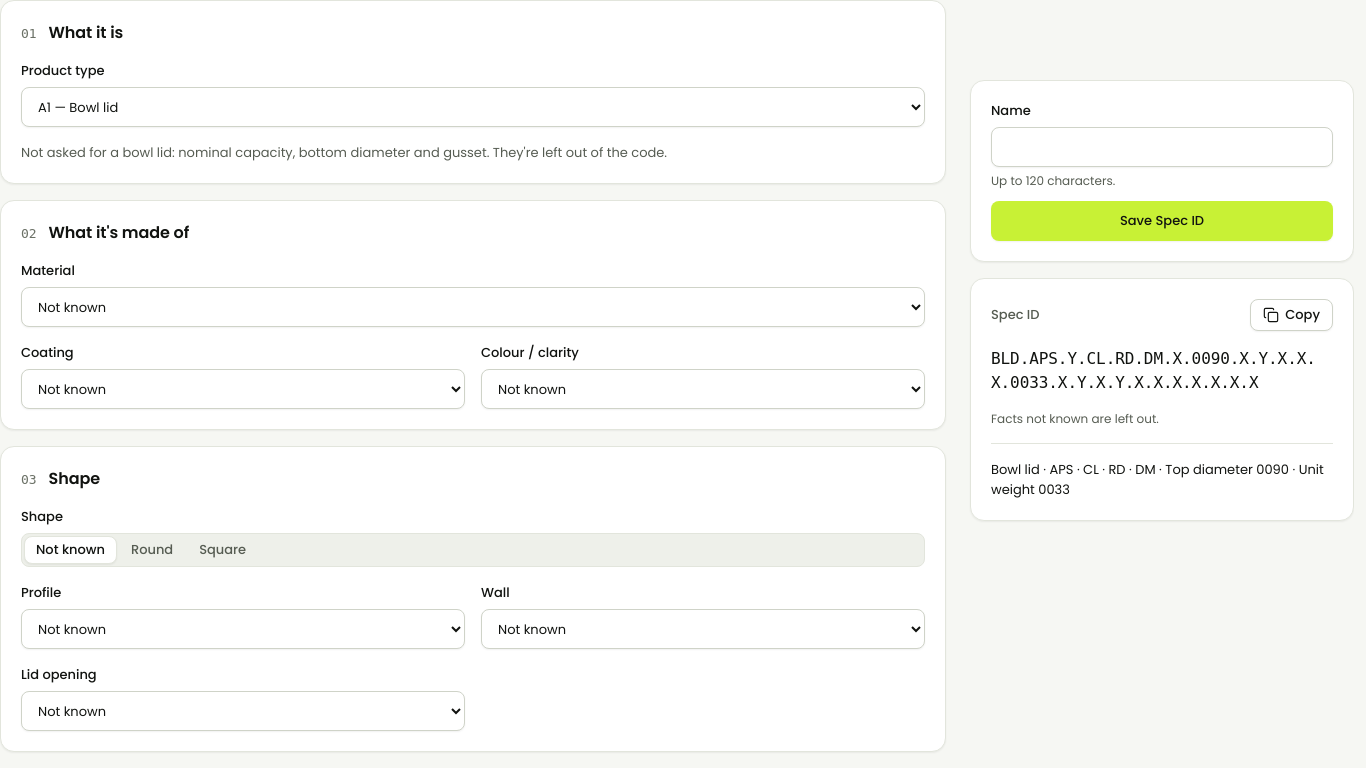
NewSpecIdForm › puts a refused name beside the Name field
What coordinates should you click on to do the following:
click the button "Save Spec ID"
I would click on:
 (1162, 221)
Its box is x1=991 y1=201 x2=1333 y2=241.
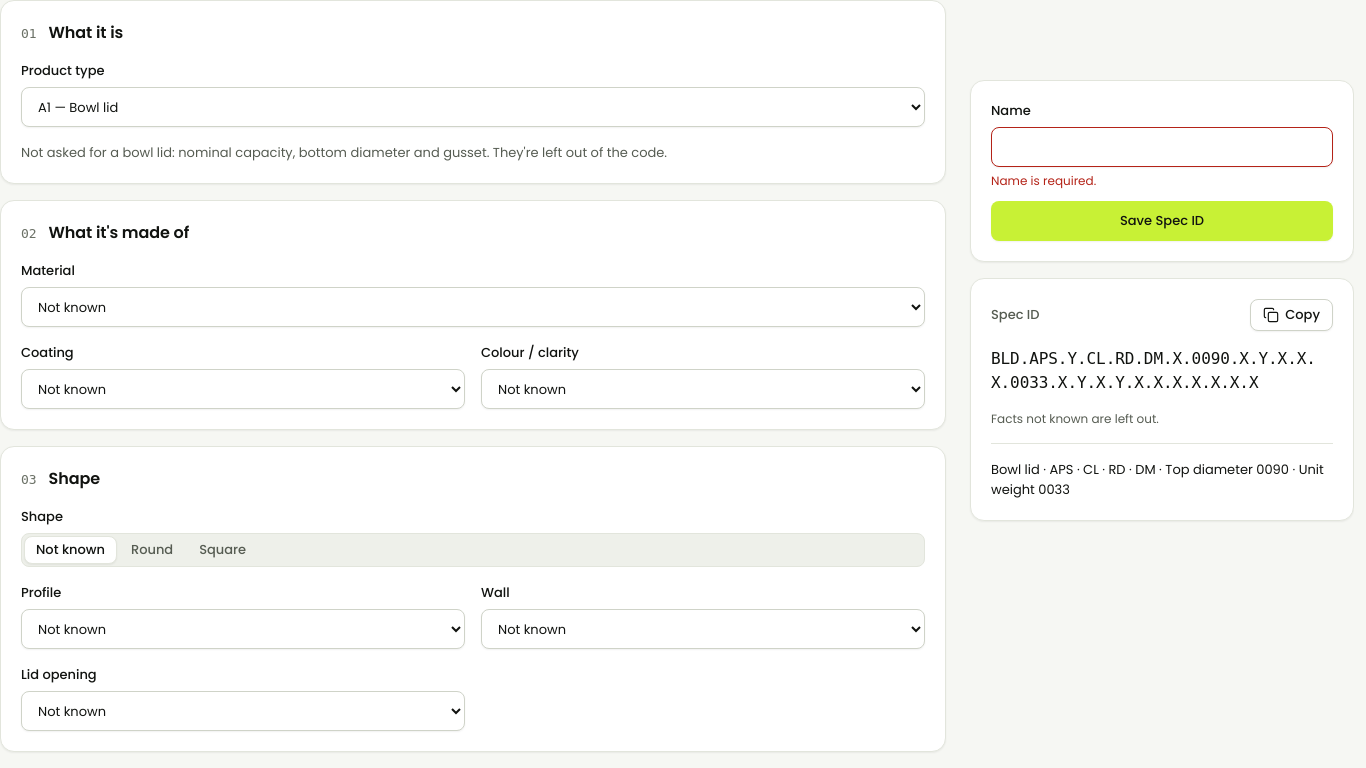
Check: the text "Name is required." is shown, box x1=991 y1=172 x2=1096 y2=189
